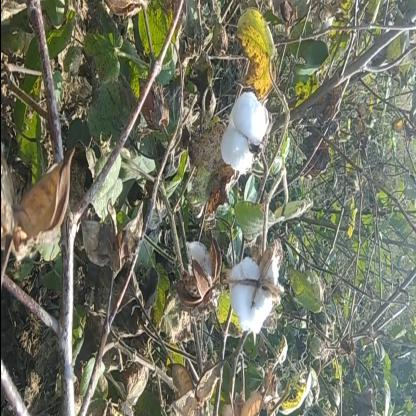cotton_ready: (222, 232, 288, 356), (209, 68, 272, 186)
